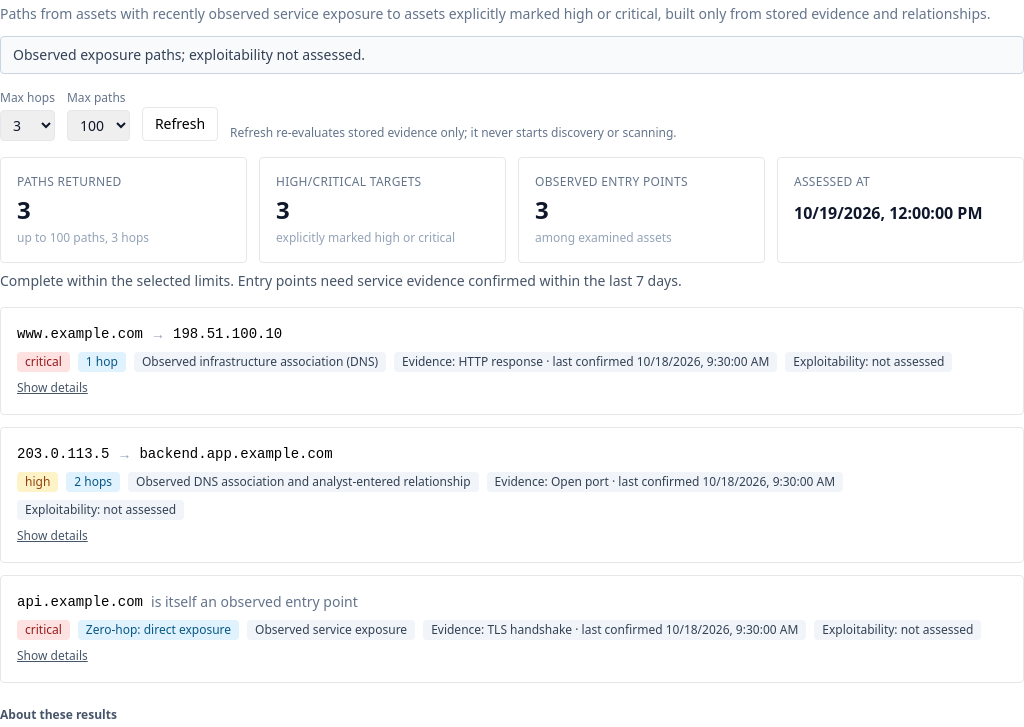
Scenario: ExposurePathsPage › labels HTTP, TLS and open-port evidence with source, timestamps and ids
Expected: the list named "Exposure paths" is shown, [0, 307, 1023, 683]
Expected: the text "Evidence: HTTP response" is shown, [394, 352, 777, 372]
Click the button "Show details" below "www.example.com".
click(52, 388)  # box [17, 380, 88, 396]
(page scrolled)
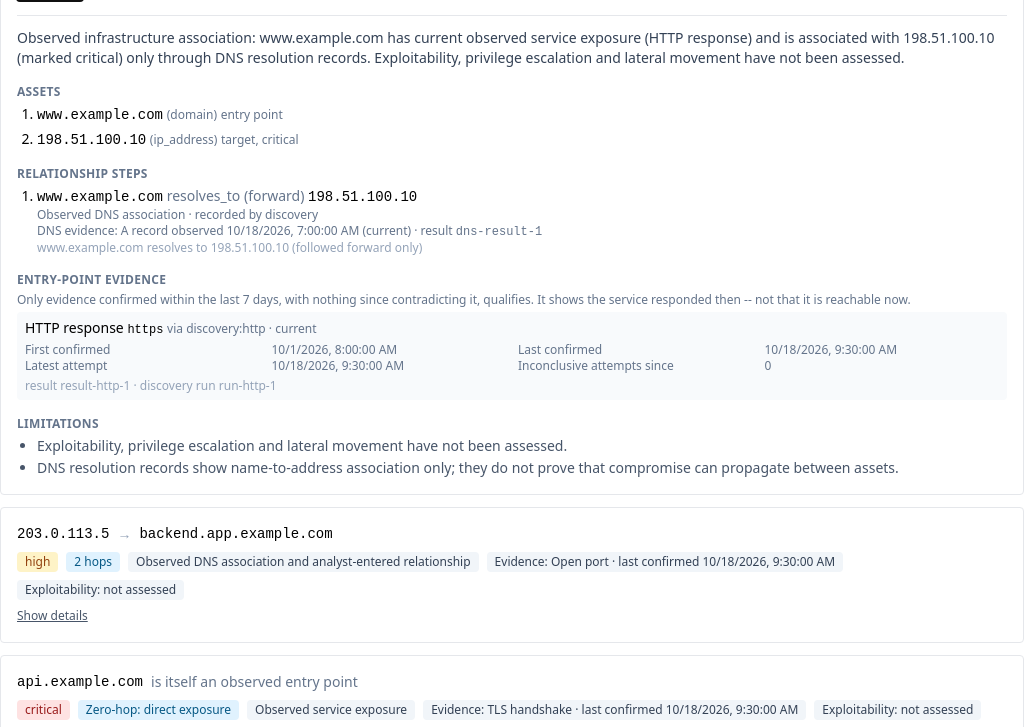
Now the list item that starts with "HTTP response" shows "via discovery:http · current", box [17, 312, 1007, 400]
Now the list item that starts with "HTTP response" shows "result result-http-1 · discovery run run-http-1", box [25, 377, 277, 394]
